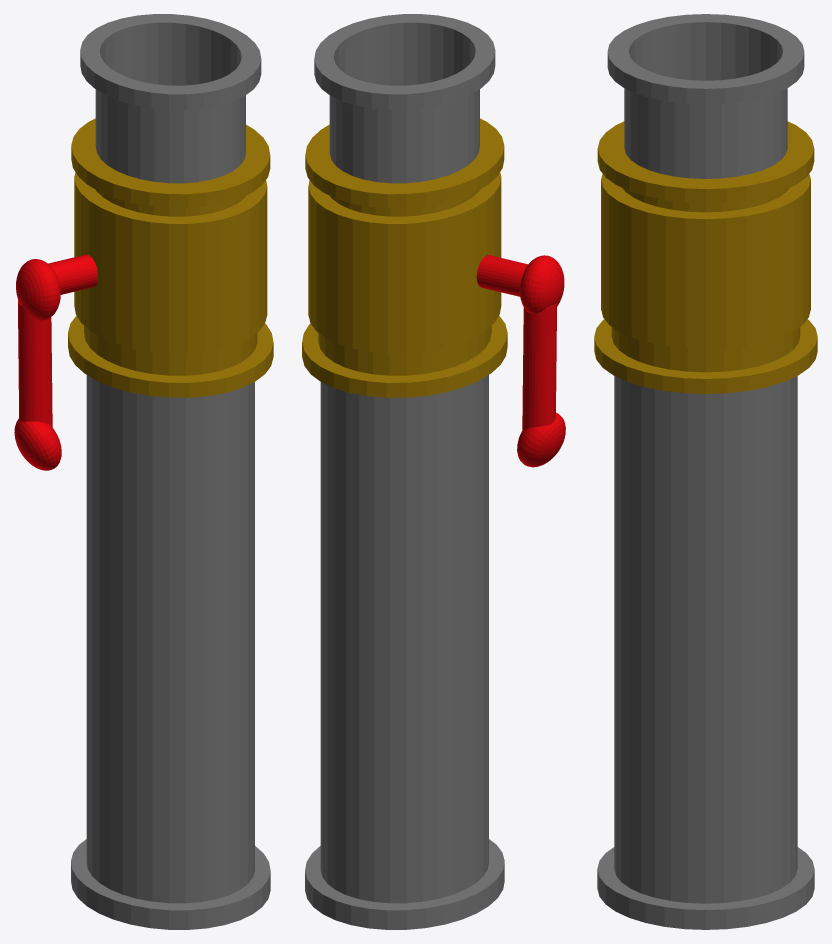
Rendered from pipe.fbx.
3 renders of one model, left to right at view 1: azimuth 30°, elevation 25°; view 2: azimuth 150°, elevation 25°; view 3: azimuth 270°, elevation 25°, orthographic.
Visible parts, largest first — view 1: Cylinder, Cylinder.002; view 2: Cylinder, Cylinder.002; view 3: Cylinder.
Part boxes in pixels (box(x1,y1,x2,y2)): Cylinder: box(68, 14, 273, 929); Cylinder.002: box(14, 254, 98, 470); Cylinder: box(302, 14, 507, 929); Cylinder.002: box(476, 255, 565, 467); Cylinder: box(594, 14, 817, 929).
Size of the model in its own units: 139 by 459 by 111.
